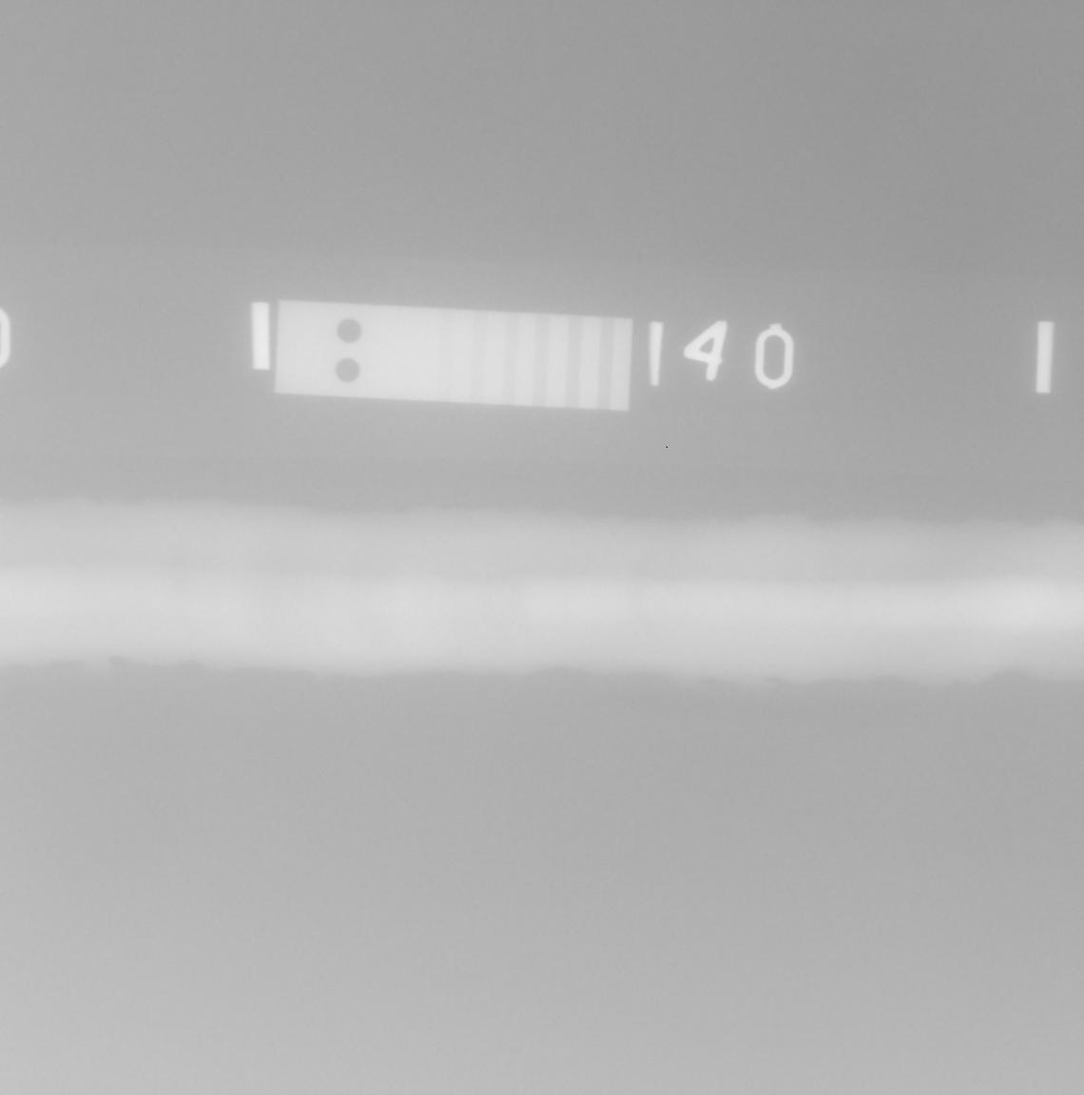Reference Standard 2: (275, 299, 633, 413)
